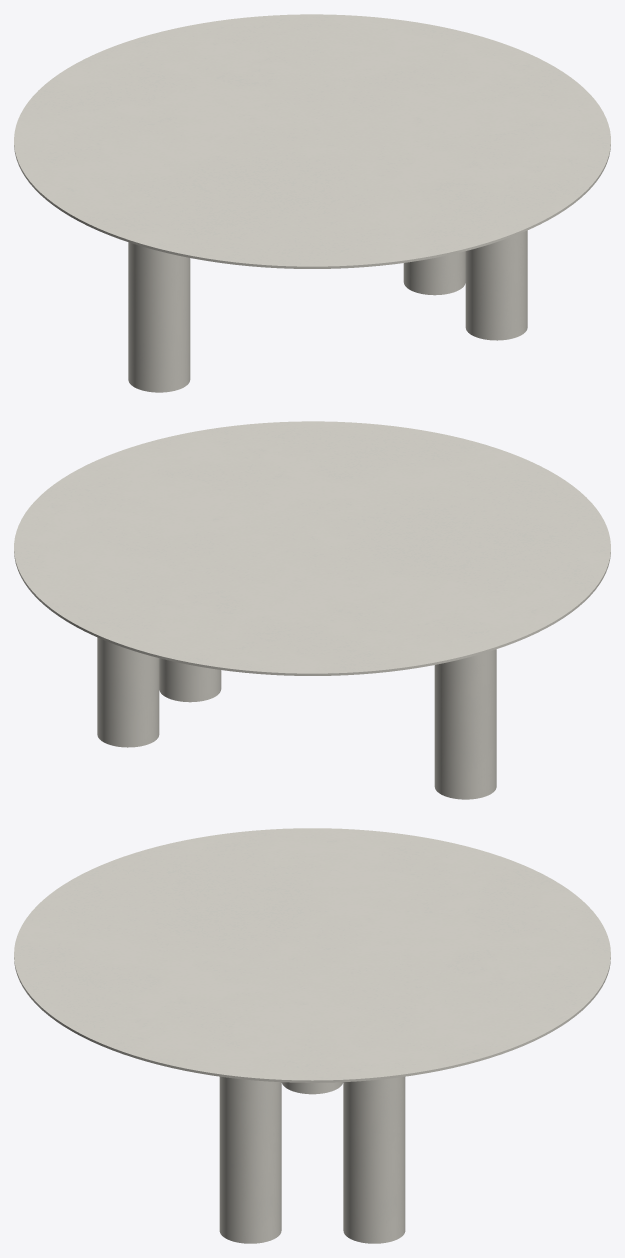
File: pale_round_facet_cylinder.glb
3 views of the same model, one above another, from view 1: azimuth 30°, elevation 25°; view 2: azimuth 150°, elevation 25°; view 3: azimuth 270°, elevation 25° (orthographic).
Parts seen in each view (by area): view 1: facet_round, cylinder; view 2: facet_round, cylinder; view 3: facet_round, cylinder.
Boxes of the visible parts, left/top/right/bottom form: facet_round: left=14, top=14, right=610, bottom=268; cylinder: left=128, top=230, right=527, bottom=392; facet_round: left=14, top=421, right=610, bottom=675; cylinder: left=97, top=637, right=496, bottom=799; facet_round: left=14, top=828, right=610, bottom=1082; cylinder: left=219, top=1076, right=405, bottom=1243.
Size of the model in its own units: 6.75 by 2.51 by 6.75.
Materials: 1 (1 with a texture image).
